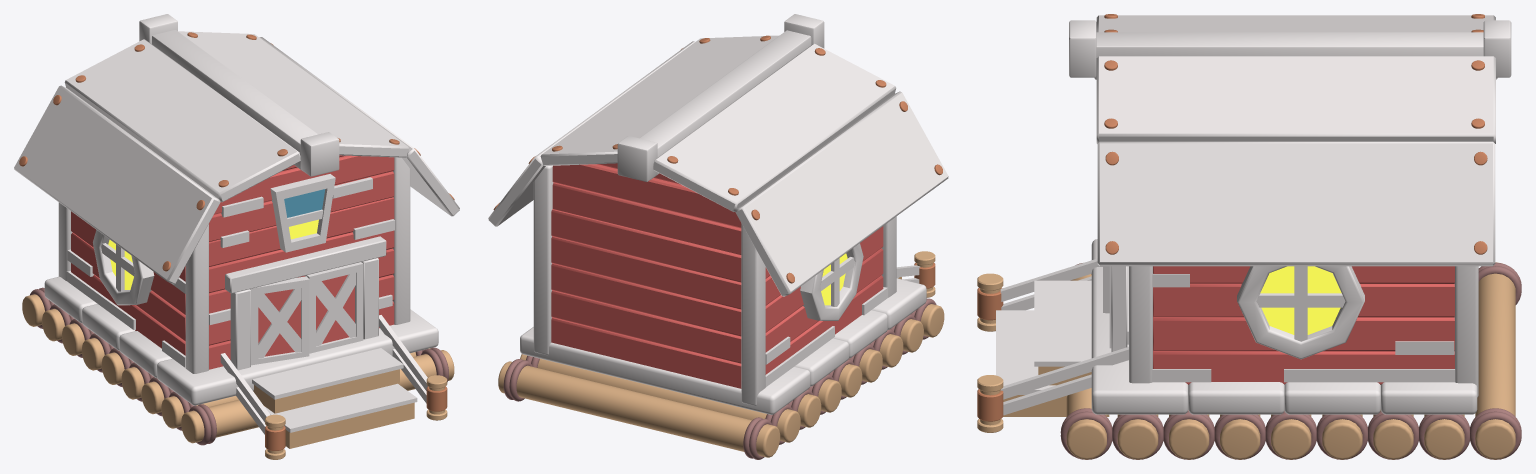
3 views of the same model, side by side, from view 1: azimuth 30°, elevation 25°; view 2: azimuth 150°, elevation 25°; view 3: azimuth 270°, elevation 25° (orthographic). The views are drawn at different scales.
Parts seen in each view (by area): view 1: 房子_2; view 2: 房子_2; view 3: 房子_2.
Boxes of the visible parts, x1,y1,x2,y2 form: 房子_2: (14, 14, 459, 459); 房子_2: (488, 14, 948, 459); 房子_2: (977, 14, 1521, 459).
Size of the model in its own units: 308 by 279 by 386.
